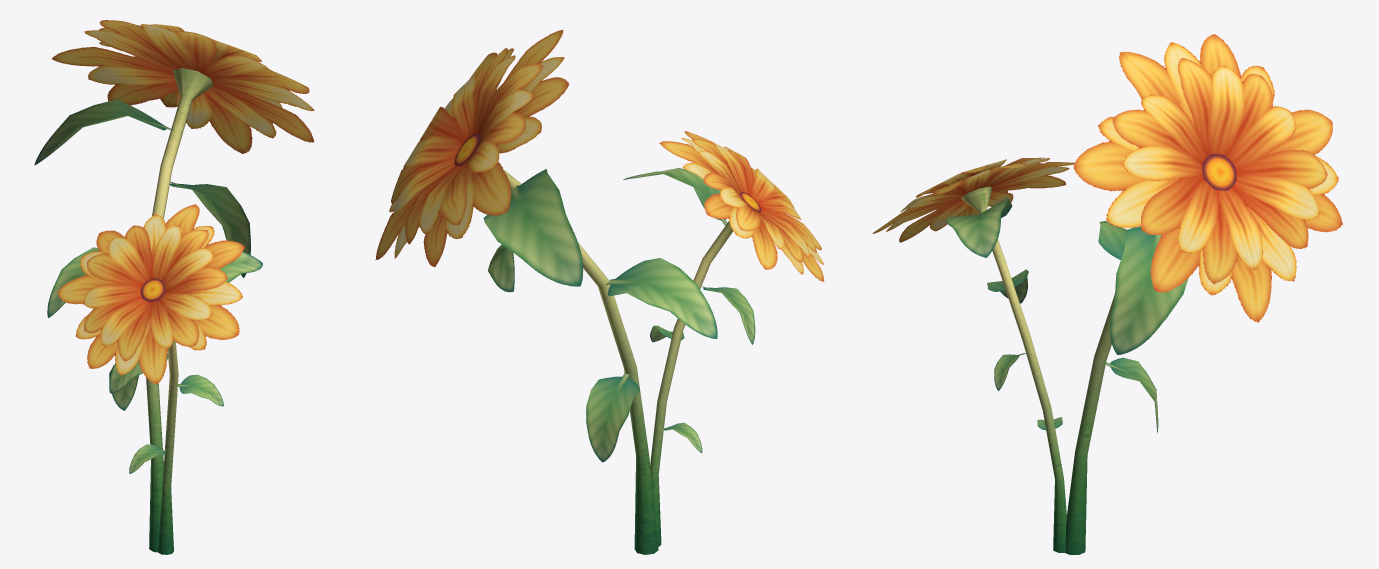
Rendered from ENV1110020.FBX.
3 views of the same model, side by side, from view 1: azimuth 30°, elevation 25°; view 2: azimuth 150°, elevation 25°; view 3: azimuth 270°, elevation 25° (orthographic). The views are drawn at different scales.
Parts seen in each view (by area): view 1: smENV1110020; view 2: smENV1110020; view 3: smENV1110020.
Part boxes in pixels (x1,y1,x2,y2): smENV1110020: (34,20,314,554); smENV1110020: (375,30,824,554); smENV1110020: (872,34,1342,554).
Bounding box in the file's own units: 10.52 × 15.25 × 12.86.
Materials: 1 (1 with a texture image).
